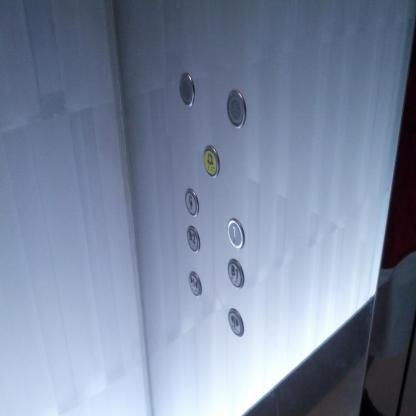1: (226, 216, 245, 250)
B1: (227, 258, 245, 288)
B2: (185, 223, 201, 253)
G: (184, 188, 199, 218)
alarm: (202, 144, 220, 180)
close: (188, 271, 202, 298)
open: (227, 306, 245, 338)
speaker: (224, 88, 247, 131), (176, 69, 198, 112)
